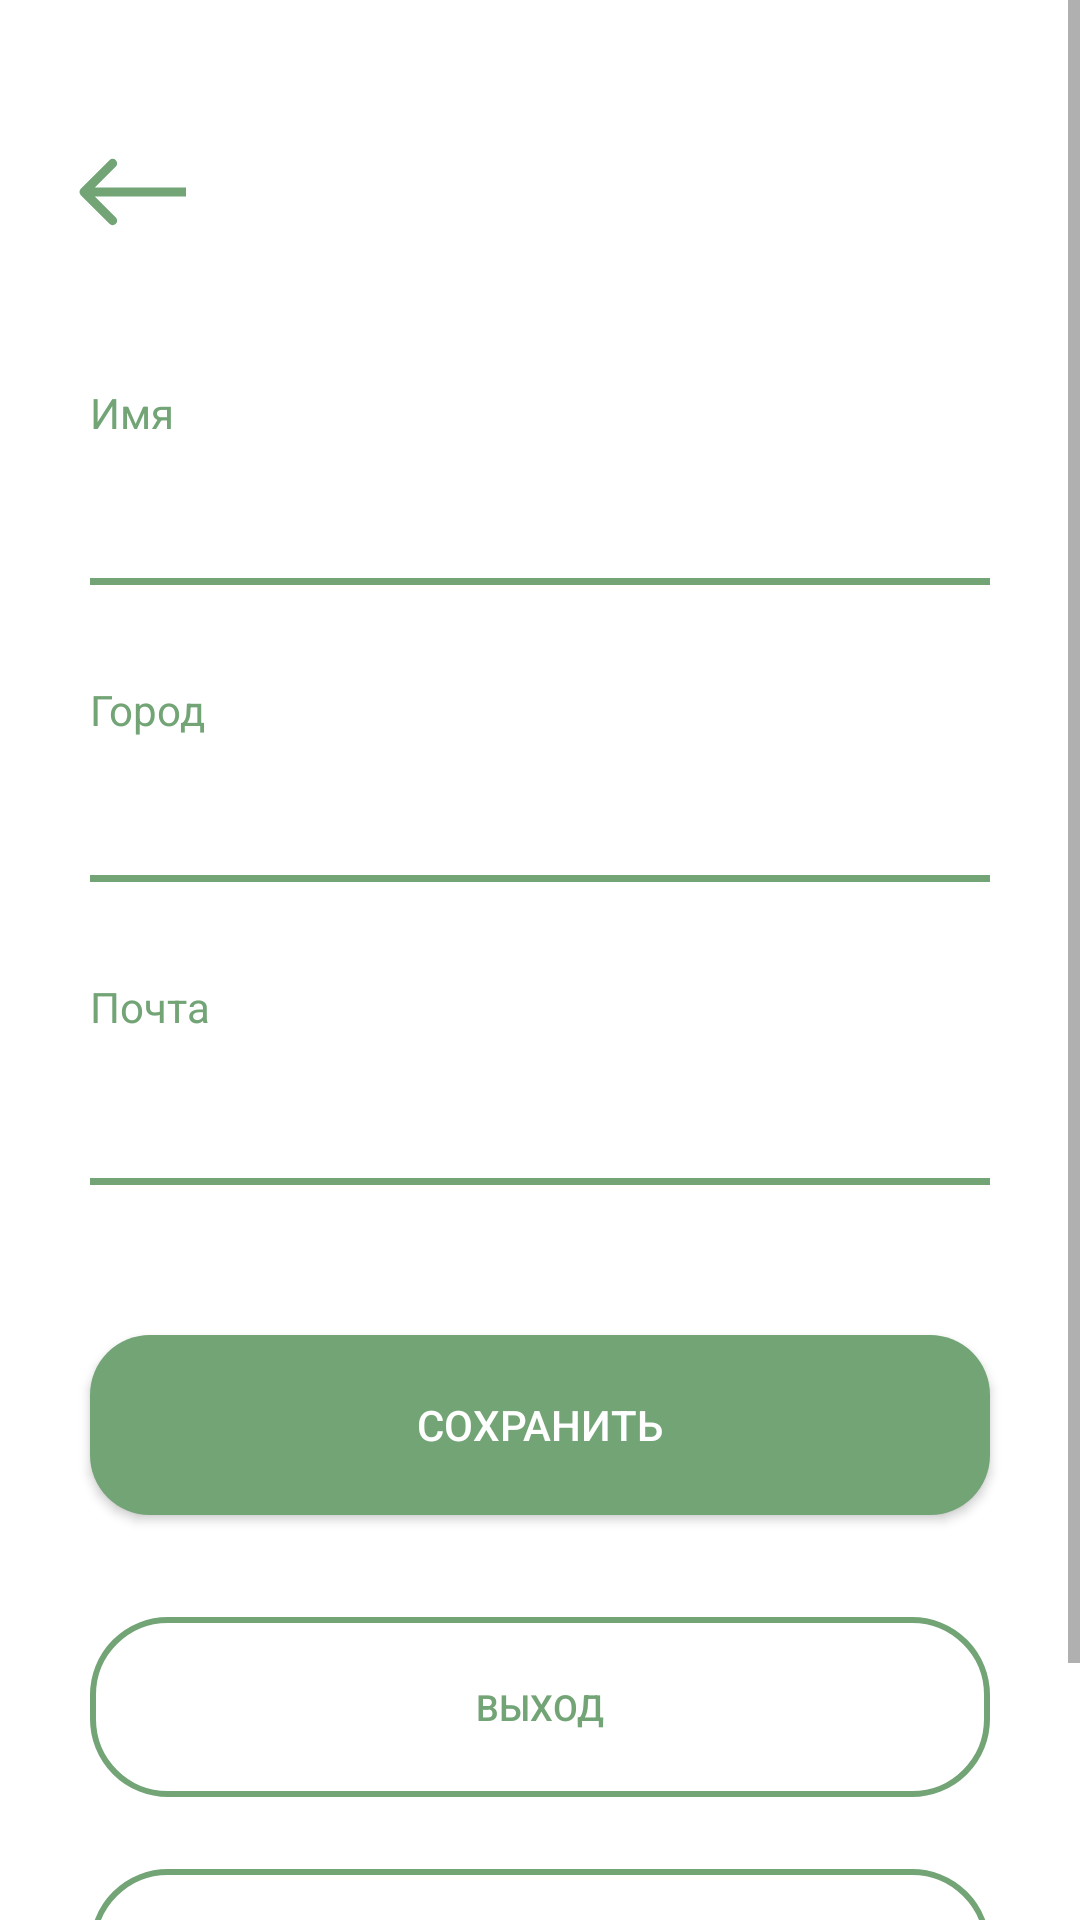

Screen size 1080 x 1920. Icon name, then its center in pixels as (x=x, y=y):
back arrow: (x=132, y=192)
